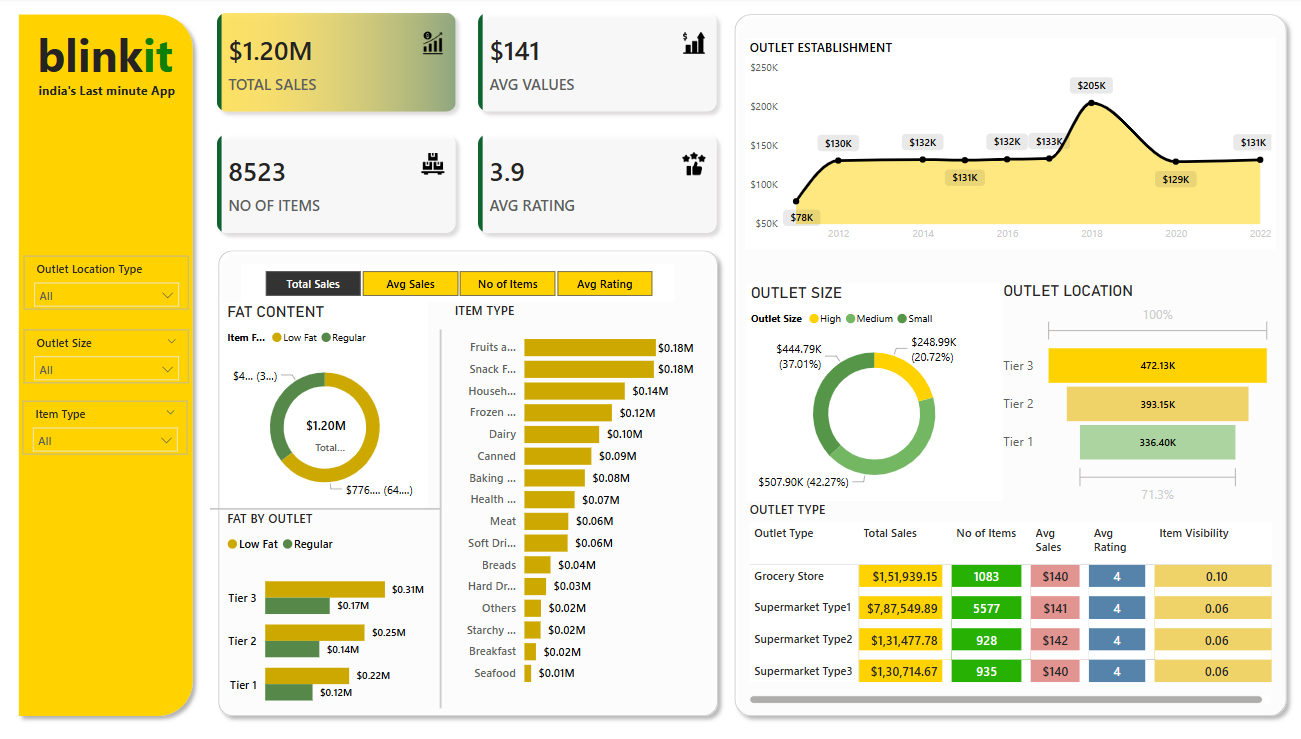

Layout of this report page (visuals, bound fields, positions):
{"tool":"powerbi","page":{"name":"Page 1","canvas":[1400,800],"ordinal":0},"visuals":[{"type":"shape","box":[10.7,9.4,205.1,770.8],"z":0},{"type":"textbox","box":[24,24,177.1,81],"z":1000},{"type":"textbox","box":[36,85.5,204.1,39],"z":2000},{"type":"cardVisual","fields":{"Data":["BlinkIT Grocery Data.Total Sales","BlinkIT Grocery Data.Avg Sales","BlinkIT Grocery Data.No of Items","BlinkIT Grocery Data.Avg Rating"]},"box":[216.1,0,570.3,270.2],"z":3000},{"type":"shape","box":[225.2,262.7,553.6,517.4],"z":4000},{"type":"donutChart","title":"FAT CONTENT","fields":{"Y":["BlinkIT Grocery Data.Total Sales"],"Category":["BlinkIT Grocery Data.Item Fat Content"]},"box":[238.6,327.1,219.8,222.5],"z":5000},{"type":"slicer","title":"FAT CONTENT","fields":{"Values":["Metrics.Metrics"]},"box":[258.7,286.9,465.1,40.2],"z":6000},{"type":"cardVisual","fields":{"Data":["BlinkIT Grocery Data.Total Sales"]},"box":[309.7,433,80.4,67],"z":7000},{"type":"clusteredBarChart","title":"FAT BY OUTLET","fields":{"Y":["BlinkIT Grocery Data.Total Sales"],"Category":["BlinkIT Grocery Data.Outlet Location Type"],"Series":["BlinkIT Grocery Data.Item Fat Content"]},"box":[238.6,549.6,221.2,230.6],"z":8000},{"type":"shape","box":[225.2,540.2,248,17.4],"z":9000},{"type":"shape","box":[462.5,356.6,20.1,406.2],"z":10000},{"type":"barChart","title":"ITEM TYPE","fields":{"Y":["BlinkIT Grocery Data.Total Sales"],"Category":["BlinkIT Grocery Data.Item Type"]},"box":[482.6,327.1,266.8,422.3],"z":11000},{"type":"shape","box":[778.8,9.4,609.9,770.8],"z":12000},{"type":"lineChart","title":"OUTLET ESTABLISHMENT","fields":{"Y":["BlinkIT Grocery Data.Total Sales"],"Category":["BlinkIT Grocery Data.Outlet Establishment Year"]},"box":[798.9,44.2,569.7,226.5],"z":13000},{"type":"donutChart","title":"OUTLET SIZE","fields":{"Y":["BlinkIT Grocery Data.Total Sales"],"Series":["BlinkIT Grocery Data.Outlet Size"]},"box":[800.3,307,274.8,233.2],"z":14000},{"type":"funnel","title":"OUTLET LOCATION","fields":{"Y":["Sum(BlinkIT Grocery Data.Sales)"],"Category":["BlinkIT Grocery Data.Outlet Location Type"]},"box":[1071.1,304.3,297.6,245.3],"z":15000},{"type":"pivotTable","title":"OUTLET TYPE","fields":{"Rows":["BlinkIT Grocery Data.Outlet Type"],"Values":["BlinkIT Grocery Data.Total Sales","BlinkIT Grocery Data.No of Items","BlinkIT Grocery Data.Avg Sales","BlinkIT Grocery Data.Avg Rating","Avg(BlinkIT Grocery Data.Item Visibility)"]},"box":[798.9,540.2,569.7,222.5],"z":16000},{"type":"slicer","fields":{"Values":["BlinkIT Grocery Data.Outlet Location Type"]},"box":[25.5,277.5,176.9,57.6],"z":17000},{"type":"slicer","fields":{"Values":["BlinkIT Grocery Data.Outlet Size"]},"box":[25.5,356.6,176.9,57.6],"z":18000},{"type":"slicer","fields":{"Values":["BlinkIT Grocery Data.Item Type"]},"box":[24.1,433,176.9,57.6],"z":19000}]}

Visuals, with their boxes in screenshot pixels (x1, y1, x2, y2), scaled from the page's 1400x800 canvas onto the 1301x739 screenshot:
shape: (10,9,201,721)
textbox: (22,22,187,97)
textbox: (33,79,223,115)
cardVisual - BlinkIT Grocery Data.Total Sales x BlinkIT Grocery Data.Avg Sales: (201,0,731,250)
shape: (209,243,724,721)
"FAT CONTENT" donutChart: (222,302,426,508)
"FAT CONTENT" slicer: (240,265,673,302)
cardVisual - BlinkIT Grocery Data.Total Sales: (288,400,363,462)
"FAT BY OUTLET" clusteredBarChart: (222,508,427,721)
shape: (209,499,440,515)
shape: (430,329,448,705)
"ITEM TYPE" barChart: (448,302,696,692)
shape: (724,9,1290,721)
"OUTLET ESTABLISHMENT" lineChart: (742,41,1272,250)
"OUTLET SIZE" donutChart: (744,284,999,499)
"OUTLET LOCATION" funnel: (995,281,1272,508)
"OUTLET TYPE" pivotTable: (742,499,1272,705)
slicer - BlinkIT Grocery Data.Outlet Location Type: (24,256,188,310)
slicer - BlinkIT Grocery Data.Outlet Size: (24,329,188,383)
slicer - BlinkIT Grocery Data.Item Type: (22,400,187,453)
